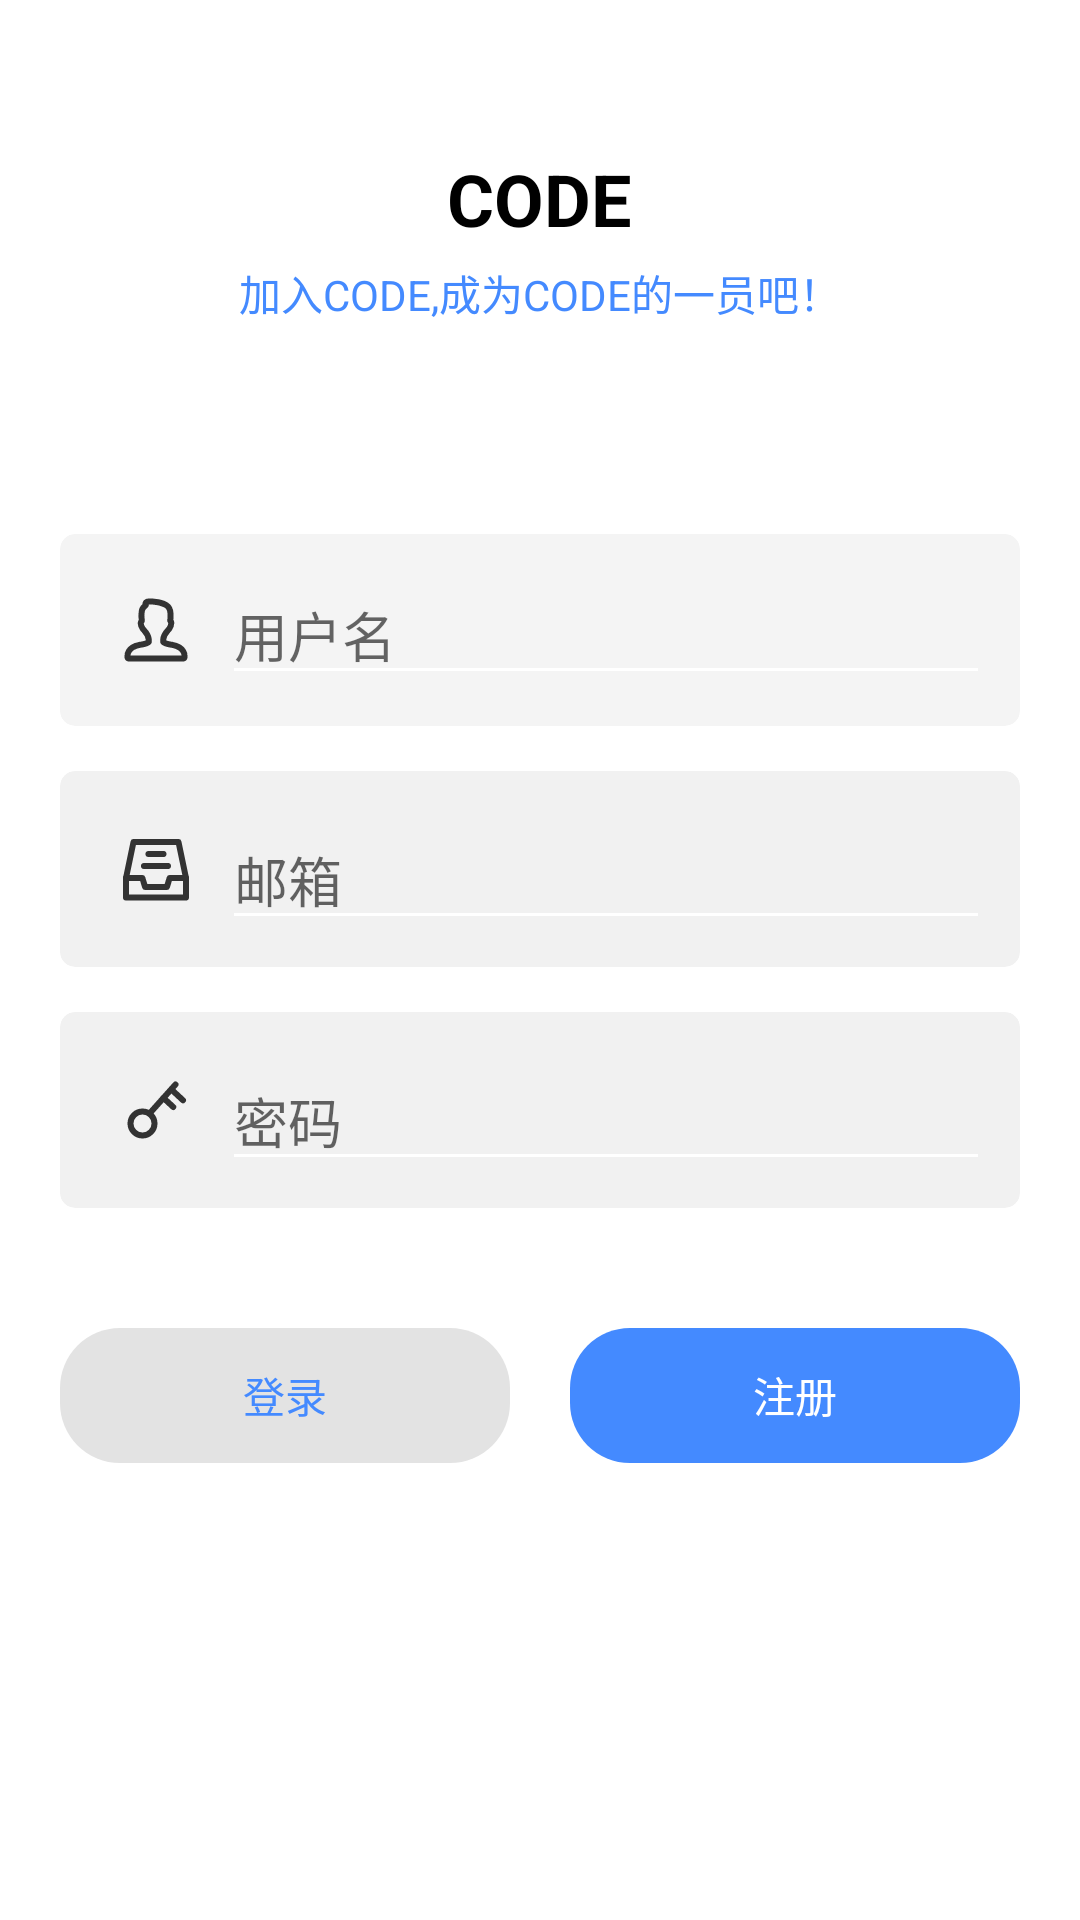

Icons on this 1080×1920 Android screen, each with the point to tap as [x,y]:
key: [156,1110]
mail: [156,870]
user: [156,630]
